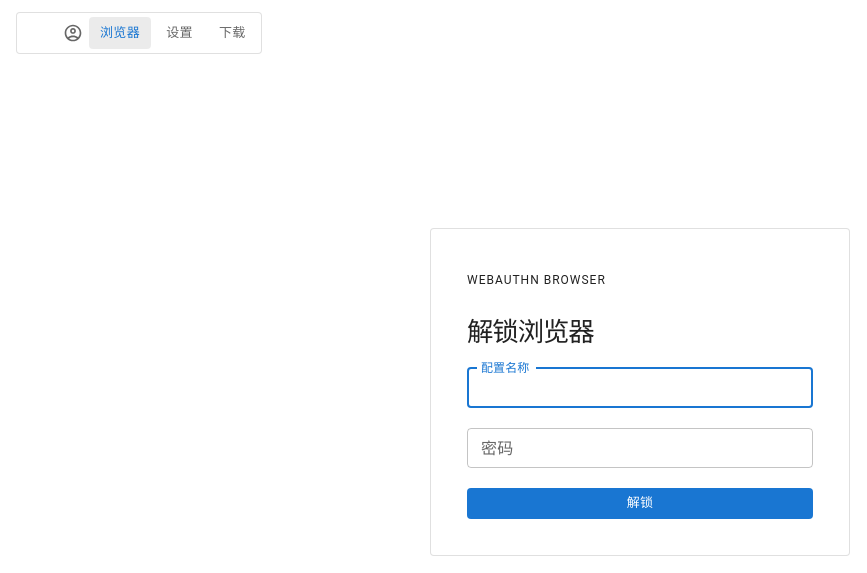
profile entry and remembered cookies › lists only remembered profiles and offers the multi-profile login route
Click the button named "浏览器配置" at [73, 33], box [57, 17, 89, 49]
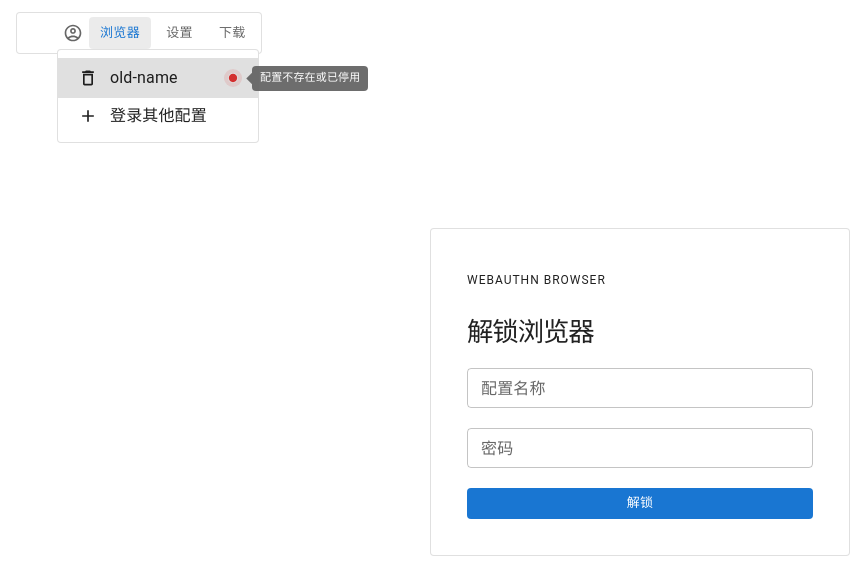
Now the text "old-name" is shown, box [110, 68, 178, 87]
Now the menu item "登录其他配置" is shown, box [74, 106, 207, 126]
